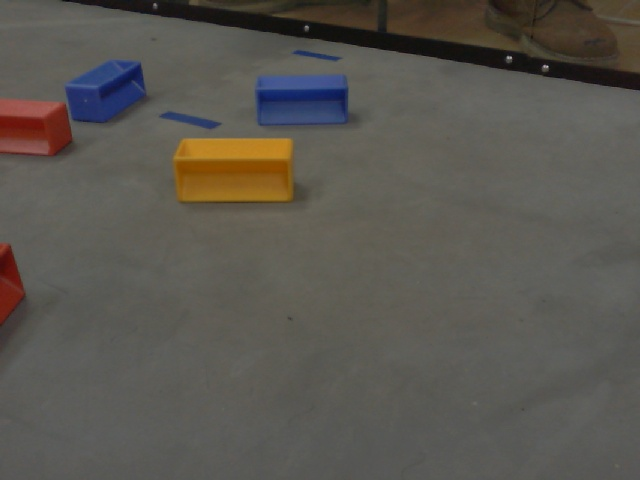BlueSample: (64, 58, 148, 123), (257, 72, 349, 129)
RedSample: (1, 95, 72, 158), (1, 239, 27, 327)
YellowSample: (173, 133, 298, 209)
